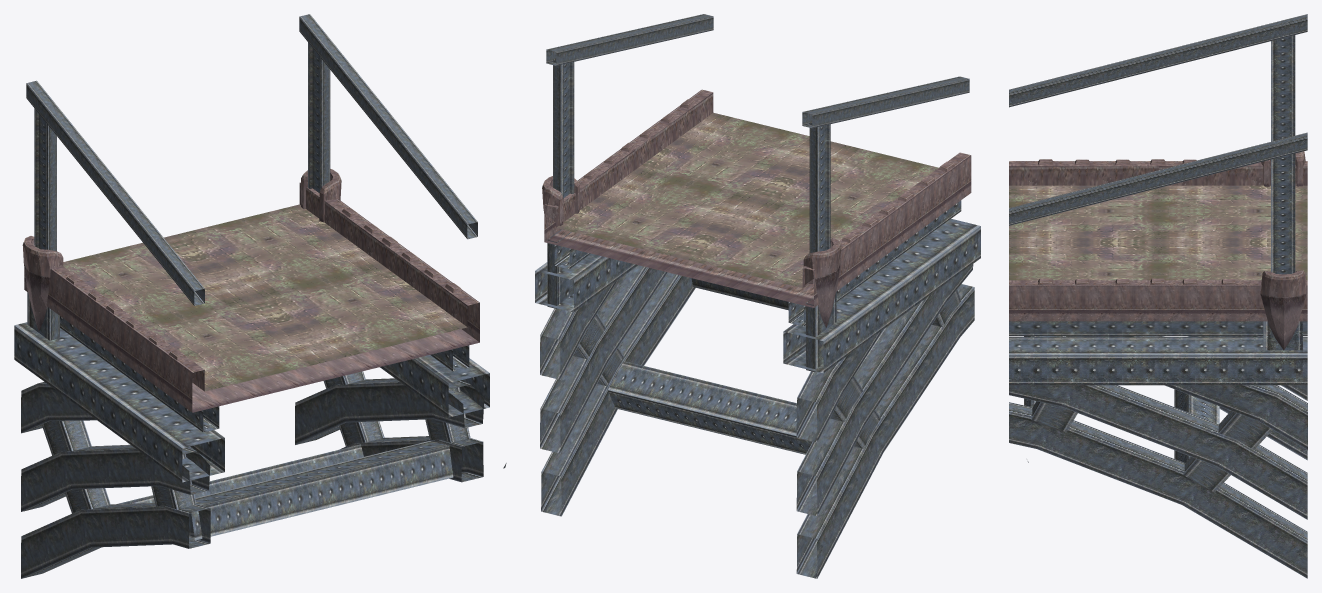
Rendered from C4SMCUSTBDG_MID.obj.
The picture shows the model from 3 angles, left to right: view 1: azimuth 30°, elevation 25°; view 2: azimuth 150°, elevation 25°; view 3: azimuth 270°, elevation 25°; orthographic projection. The views are drawn at different scales.
Parts seen in each view (by area): view 1: Node 26, Node 7, Node 22, Node 18, Node 9, Node 10, Node 19, Node 20, Node 17, Node 21, Node 23, Node 15 (+8 smaller); view 2: Node 26, Node 7, Node 22, Node 19, Node 15, Node 20, Node 16, Node 17, Node 9, Node 10, Node 21, Node 12 (+7 smaller); view 3: Node 26, Node 7, Node 23, Node 16, Node 17, Node 9, Node 10, Node 12, Node 24, Node 8, Node 15, Node 14 (+3 smaller).
Part boxes in pixels (<box>): Node 26: <box>168,182,479,377</box>; Node 7: <box>24,236,335,412</box>; Node 22: <box>14,292,224,482</box>; Node 18: <box>189,441,453,540</box>; Node 9: <box>299,14,477,239</box>; Node 10: <box>26,80,204,305</box>; Node 19: <box>21,502,210,578</box>; Node 20: <box>21,444,210,511</box>; Node 17: <box>295,378,484,444</box>; Node 21: <box>21,382,110,513</box>; Node 23: <box>380,355,489,417</box>; Node 15: <box>116,444,363,504</box>; Node 26: <box>544,89,836,274</box>; Node 7: <box>679,143,971,307</box>; Node 22: <box>783,219,980,373</box>; Node 19: <box>796,284,974,578</box>; Node 15: <box>608,361,812,454</box>; Node 20: <box>796,264,973,515</box>; Node 16: <box>541,272,695,516</box>; Node 17: <box>540,265,667,453</box>; Node 9: <box>546,14,713,200</box>; Node 10: <box>802,76,969,252</box>; Node 21: <box>796,330,882,448</box>; Node 12: <box>540,280,623,385</box>; Node 26: <box>1009,242,1307,321</box>; Node 7: <box>1009,161,1307,242</box>; Node 23: <box>1009,321,1307,385</box>; Node 16: <box>1009,402,1307,578</box>; Node 17: <box>1009,385,1307,519</box>; Node 9: <box>1009,132,1307,274</box>; Node 10: <box>1009,14,1307,141</box>; Node 12: <box>1165,385,1307,492</box>; Node 24: <box>1009,321,1307,336</box>; Node 8: <box>1260,270,1306,349</box>; Node 15: <box>1174,389,1219,462</box>; Node 14: <box>1038,278,1236,284</box>.
Bounding box in the file's own units: 37.41 × 52.8 × 32.53.
Materials: 23 (23 with a texture image).
